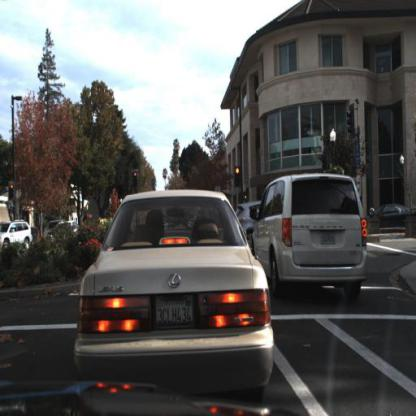car: (78, 187, 269, 386), (253, 169, 371, 297), (363, 201, 416, 236), (236, 198, 264, 245), (2, 220, 36, 248), (1, 220, 35, 248)
trafficLight-Red: (234, 166, 242, 189), (9, 181, 16, 201), (132, 170, 138, 189)
